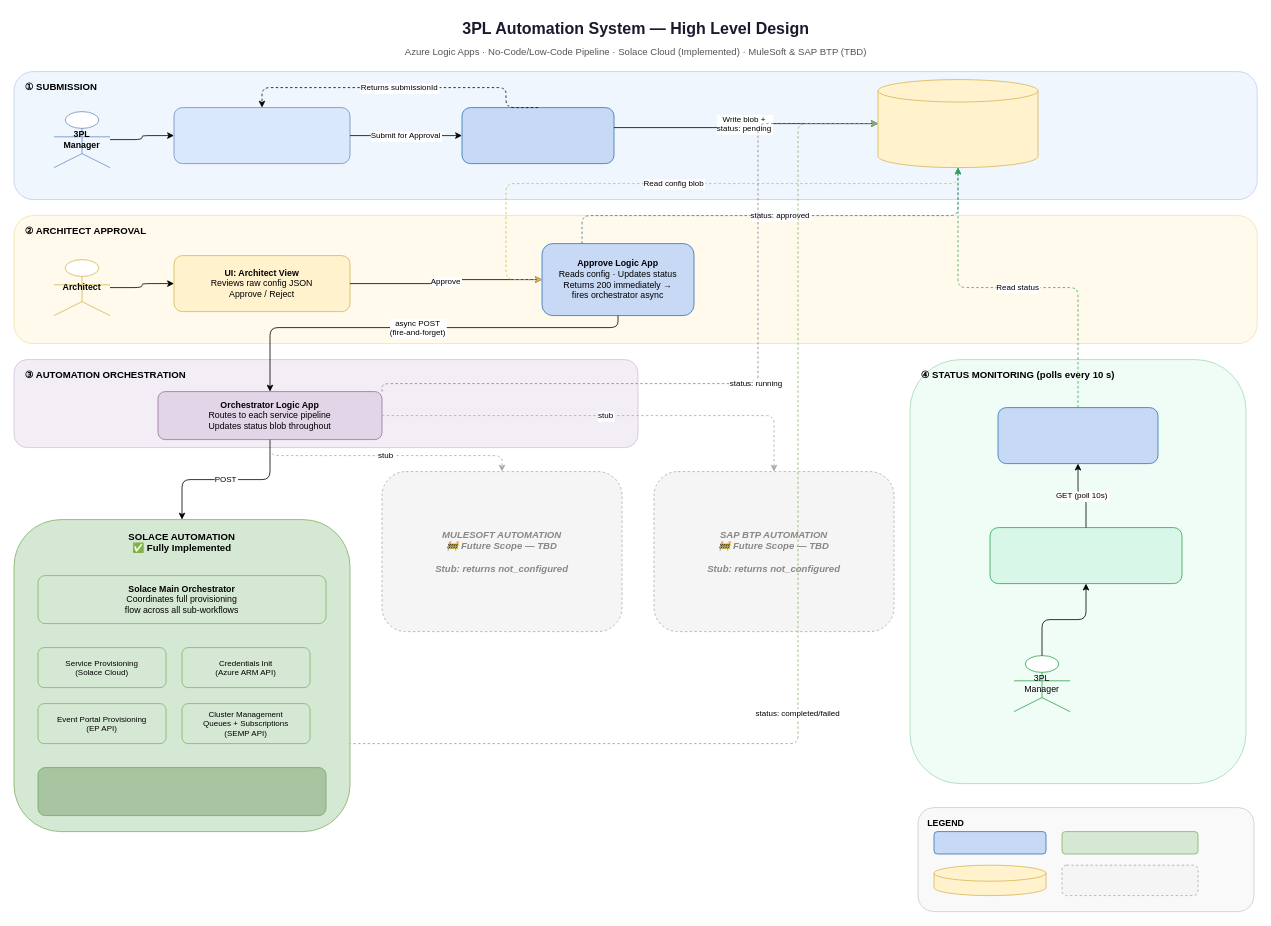
The diagram is 1271 pixels wide and 926 high, and some of its shapes have lost their labels. Here are the shapes that lost their labels. From the top down, the centre of each, then its label:
At point (261, 135): "3PL Onboarding UI Partner form · Config generator Custom queues · Env selector".
At point (537, 135): "Submission Logic App Validates & stores config".
At point (957, 123): "Azure Blob Storage /pending/{id}.json /status/{id}-status.json".
At point (1077, 435): "Status Logic App Reads status blob Returns current state".
At point (1085, 555): "UI: Progress View Solace ✅ · MuleSoft 🚧 · BTP 🚧 Service status per pipeline".
At point (181, 791): "Solace Cloud Service Cloud API v0/v2 · SEMP v2 Event Portal API".
At point (989, 842): "Azure Logic App".
At point (1129, 842): "Solace (Implemented ✅)".
At point (989, 880): "Azure Blob / Data Store".
At point (1129, 880): "Future Scope (TBD 🚧)".
